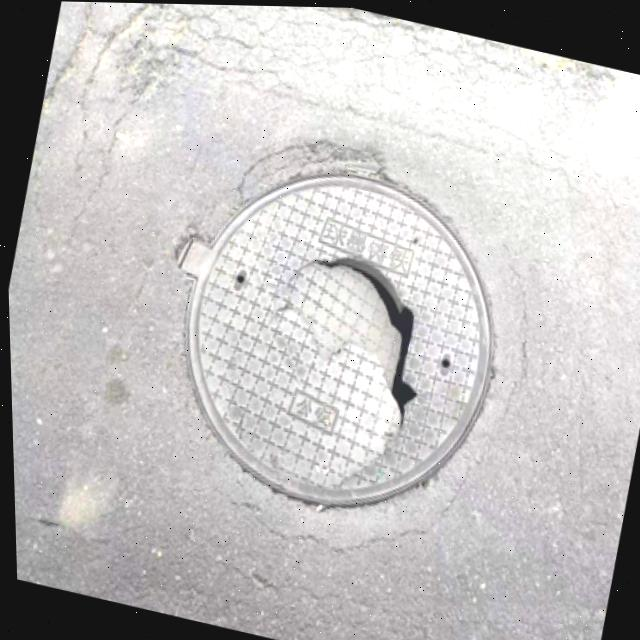manhole: (117, 95, 545, 551)
